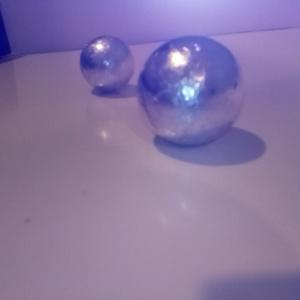alive_ball: (137, 36, 242, 148), (80, 36, 136, 94)
